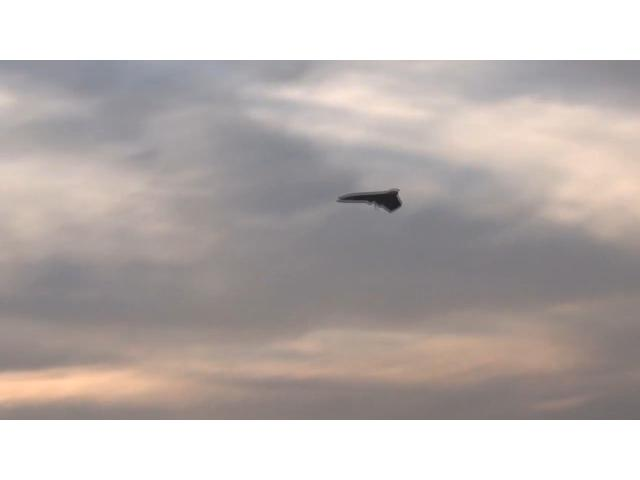Anti-Drone: (338, 188, 404, 212)
